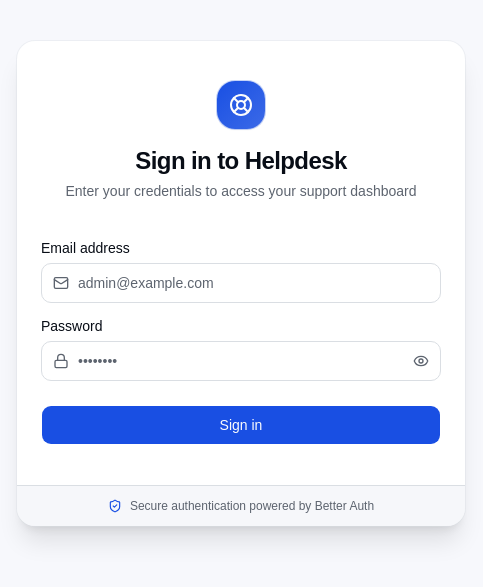
LoginPage Component › displays validation errors when submitting empty form
Click the button "Sign in". click: (241, 424)
box: [41,404,441,444]
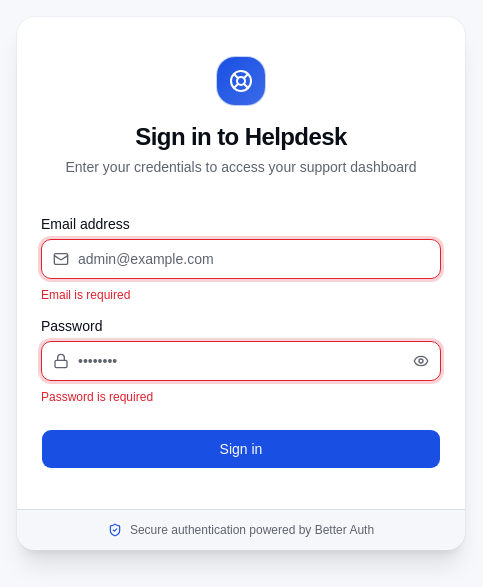
Check: the text "Email is required" is shown, box [41,288,130,302]
Check: the text "Password is required" is shown, box [41,390,153,404]
